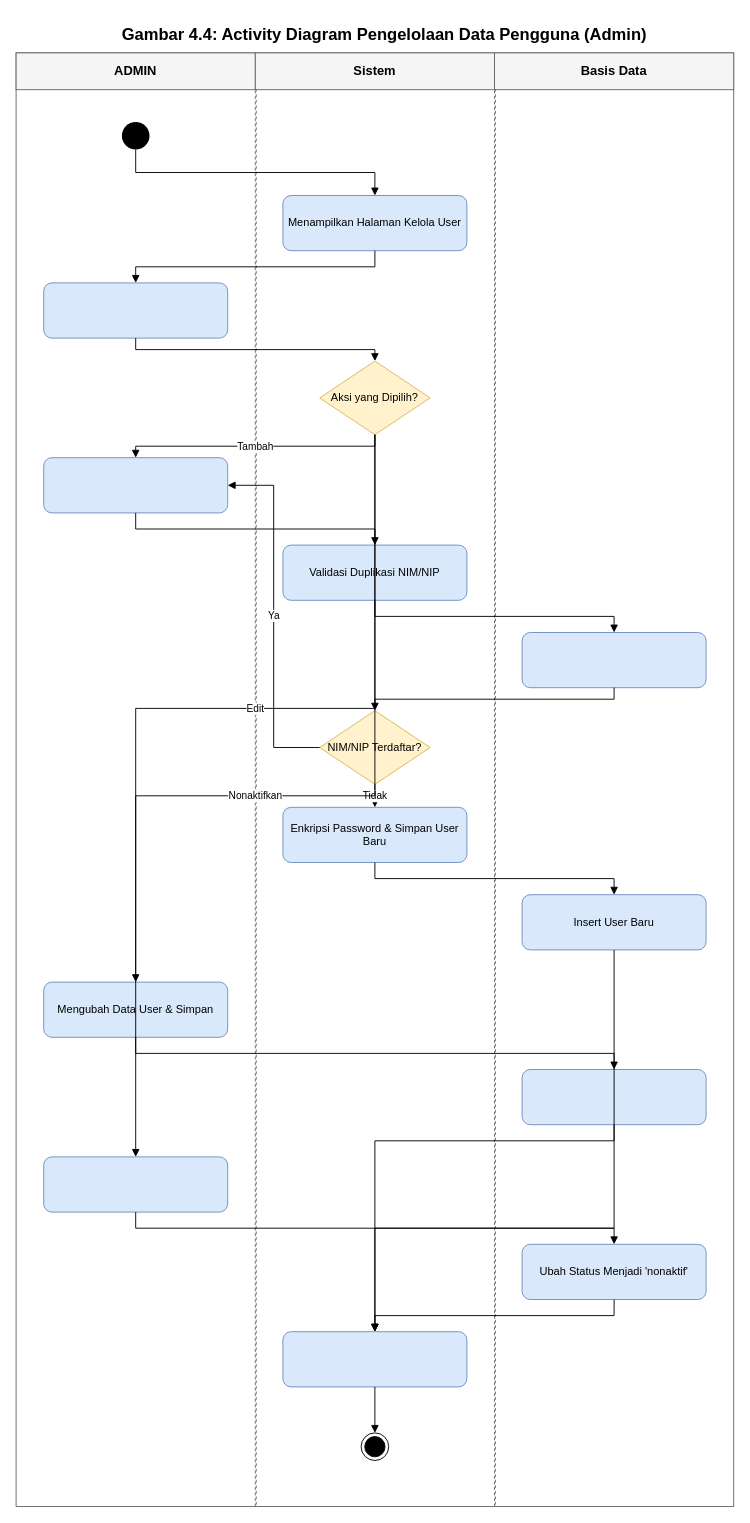
Image size: 750x1523. Some labels were removed from this diagram. Each missing label, with the box of its shape:
Cek NIM/NIP di Database: (521, 632, 706, 688)
Konfirmasi Soft Delete (Nonaktifkan): (43, 1156, 228, 1212)
Memilih Aksi (Tambah / Edit / Nonaktifkan): (43, 282, 228, 338)
Memperbarui Tabel & Tampilkan Pesan Sukses: (282, 1331, 467, 1387)
Mengisi Form User Baru: (43, 457, 228, 513)
Update Data User: (521, 1069, 706, 1125)
